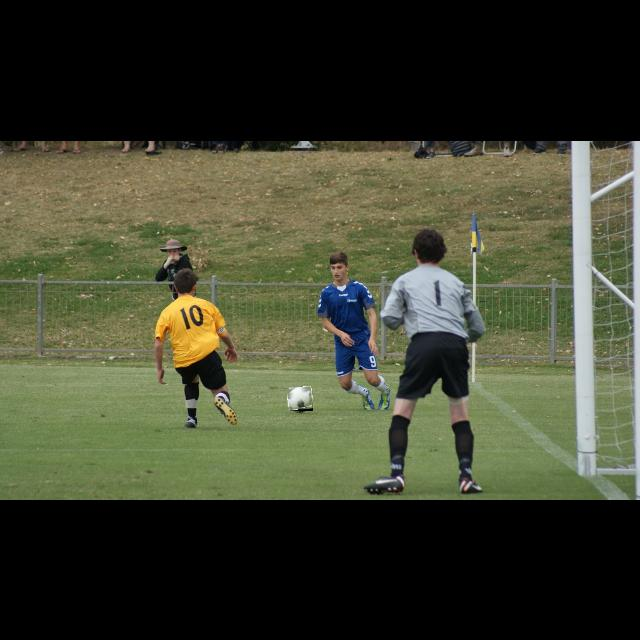Football: (287, 387, 313, 411)
